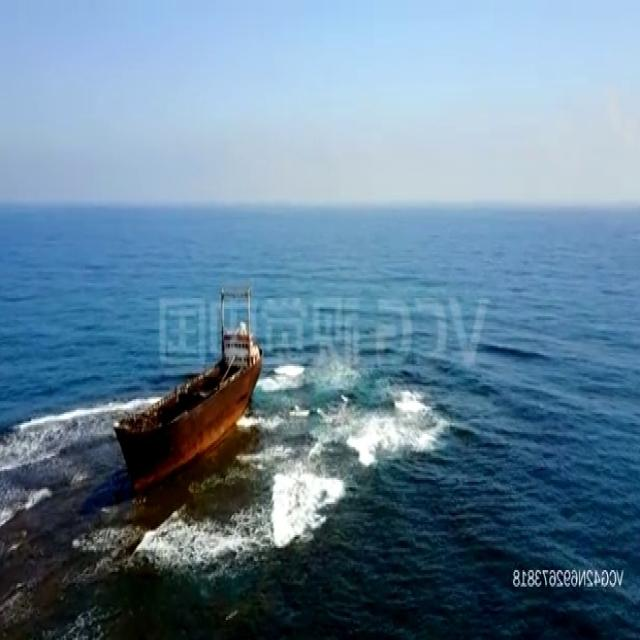cargoship: (114, 284, 264, 484)
